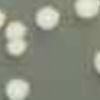white: (34, 5, 59, 32), (71, 0, 100, 21), (3, 18, 30, 40), (4, 78, 30, 100), (3, 38, 31, 58), (88, 46, 100, 76), (0, 8, 6, 31)
